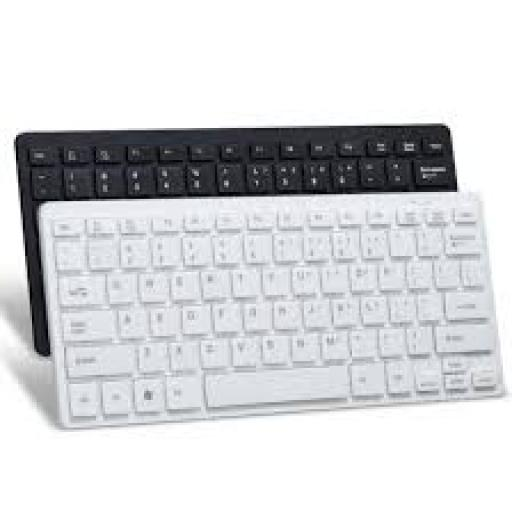keyboard: (43, 194, 501, 425)
